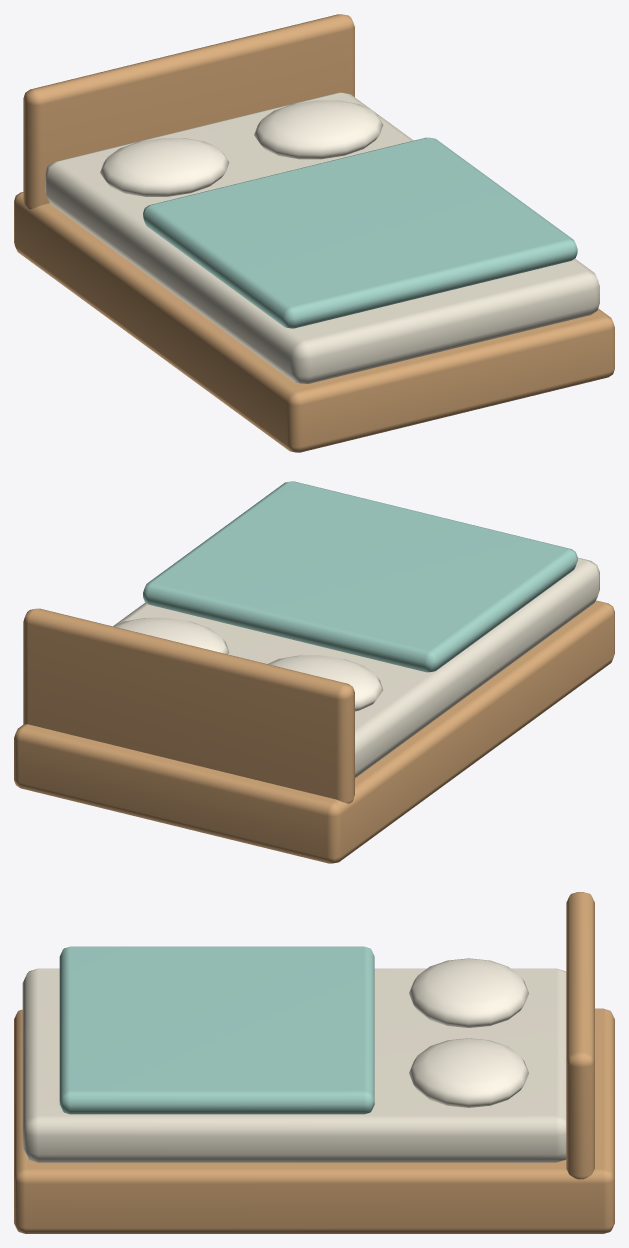
Rendered from Bed.fbx.
3 renders of one model, top to bottom at view 1: azimuth 30°, elevation 25°; view 2: azimuth 150°, elevation 25°; view 3: azimuth 270°, elevation 25°, orthographic. The views are drawn at different scales.
Parts seen in each view (by area): view 1: Bed_Blanket, Bed_Frame, Bed_Mattress, Bed_Headboard, Bed_PillowRight, Bed_PillowLeft; view 2: Bed_Blanket, Bed_Frame, Bed_Headboard, Bed_Mattress, Bed_PillowLeft, Bed_PillowRight; view 3: Bed_Blanket, Bed_Mattress, Bed_Frame, Bed_Headboard, Bed_PillowLeft, Bed_PillowRight.
Boxes of the visible parts, x1,y1,x2,y2 form: Bed_Blanket: (143, 137, 577, 328); Bed_Frame: (14, 192, 614, 452); Bed_Mattress: (45, 92, 599, 383); Bed_Headboard: (23, 14, 354, 209); Bed_PillowRight: (254, 100, 383, 159); Bed_PillowLeft: (100, 138, 229, 196); Bed_Blanket: (143, 481, 577, 672); Bed_Frame: (14, 600, 614, 863); Bed_Headboard: (23, 608, 354, 803); Bed_Mattress: (113, 557, 599, 777); Bed_PillowLeft: (268, 655, 383, 711); Bed_PillowRight: (113, 617, 229, 654); Bed_Blanket: (59, 946, 374, 1114); Bed_Mattress: (22, 968, 566, 1162); Bed_Frame: (14, 1008, 614, 1233); Bed_Headboard: (566, 892, 594, 1179); Bed_PillowLeft: (409, 958, 528, 1027); Bed_PillowRight: (409, 1038, 528, 1107).
Bounding box in the file's own units: 1.4 × 0.7 × 2.1.
